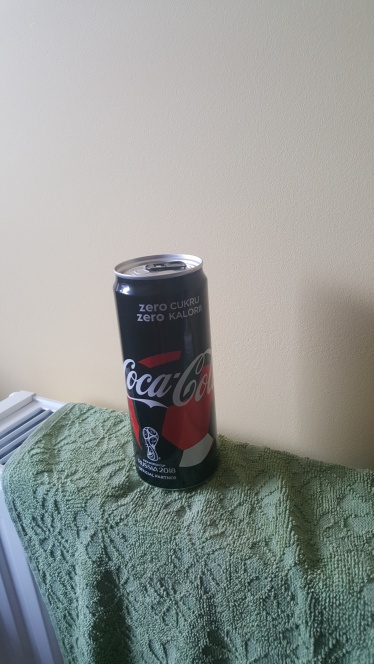colazero: (103, 246, 234, 498)
